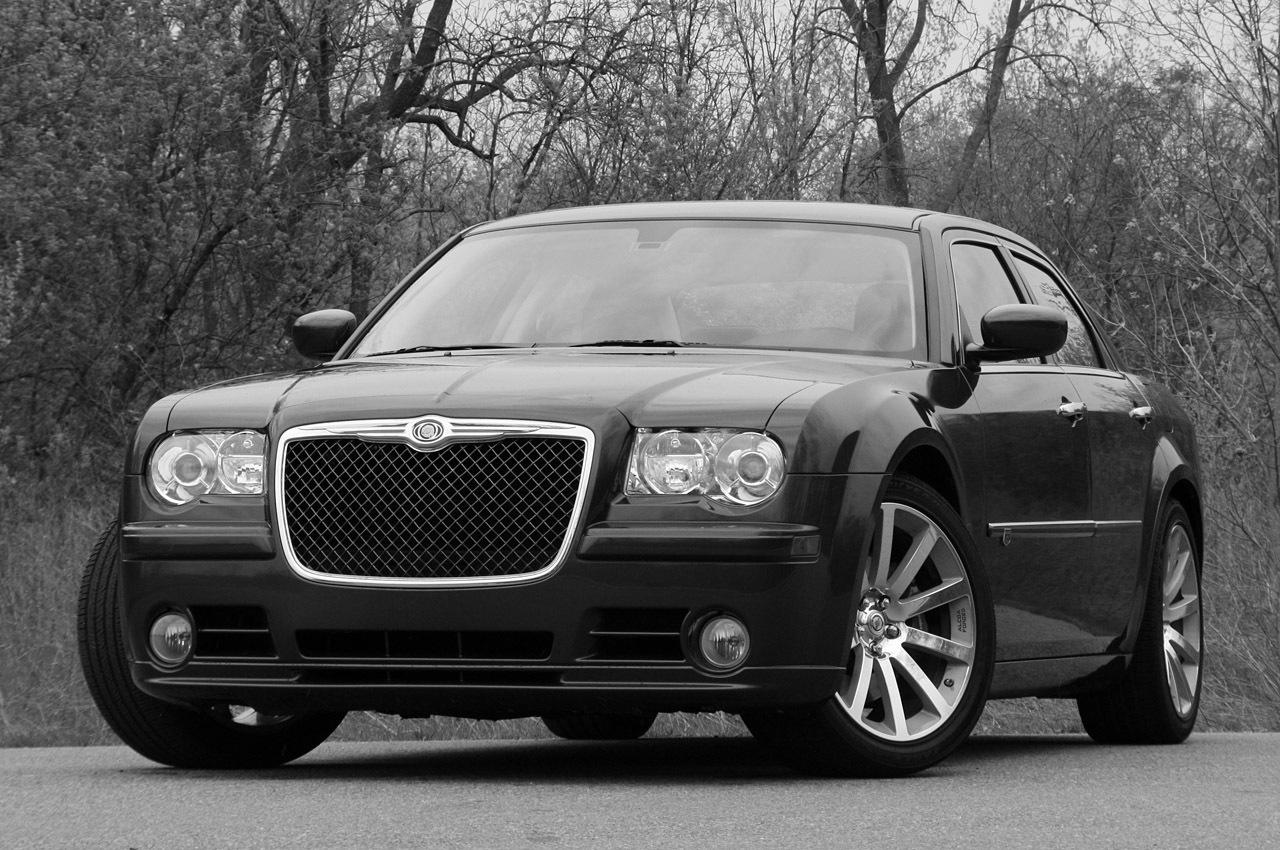car: (41, 167, 1227, 802)
